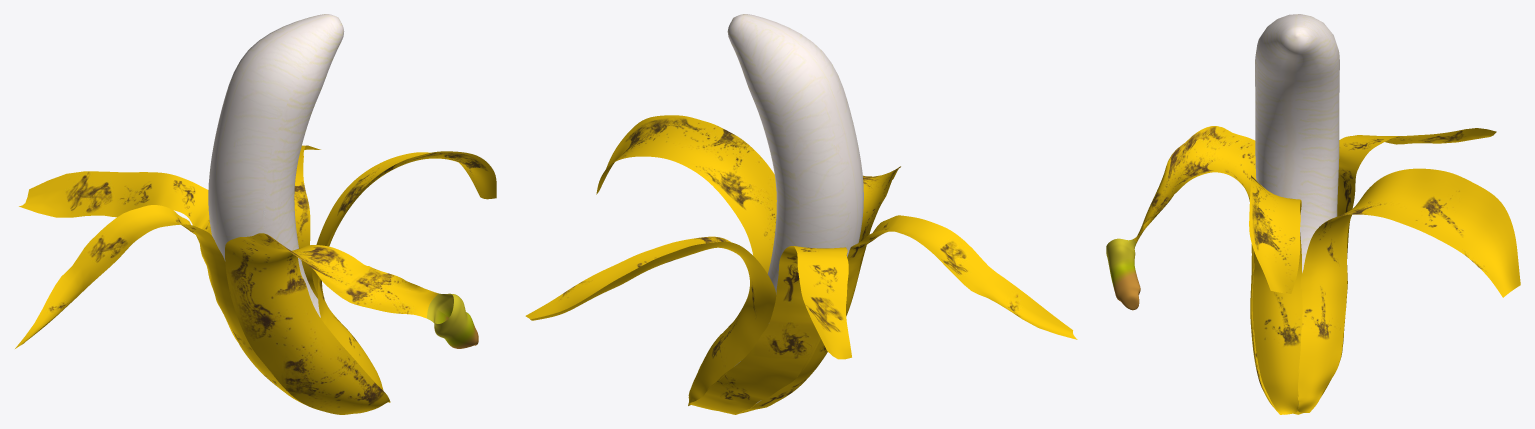
Rendered from banana_model.obj.
3 views of the same model, side by side, from view 1: azimuth 30°, elevation 25°; view 2: azimuth 150°, elevation 25°; view 3: azimuth 270°, elevation 25° (orthographic). The views are drawn at different scales.
Parts seen in each view (by area): view 1: bananu1:pPlane2 bananu1:polySurface1 group2 pasted__polySurface5, bananu1:pPlane1 pasted__polySurface6 bananu1:polySurface1 group2, polySurface9, polySurface8, bananu:pPlane1 polySurface7 bananu:polySurface1, bananu:pPlane1 bananu:polySurface1 polySurface3, bananu1:pPlane1 bananu1:polySurface1 group2 pasted__polySurface5, bananu1:pPlane2 pasted__polySurface6 bananu1:polySurface1 group2; view 2: bananu1:pPlane1 pasted__polySurface6 bananu1:polySurface1 group2, polySurface8, bananu:pPlane1 polySurface7 bananu:polySurface1, bananu:pPlane1 bananu:polySurface1 polySurface3, polySurface9, bananu1:pPlane2 pasted__polySurface6 bananu1:polySurface1 group2, bananu1:pPlane2 bananu1:polySurface1 group2 pasted__polySurface5; view 3: bananu:pPlane1 bananu:polySurface1 polySurface3, bananu1:pPlane1 pasted__polySurface6 bananu1:polySurface1 group2, bananu:pPlane1 polySurface7 bananu:polySurface1, bananu1:pPlane2 bananu1:polySurface1 group2 pasted__polySurface5, polySurface8, bananu1:pPlane2 pasted__polySurface6 bananu1:polySurface1 group2, bananu1:pPlane1 bananu1:polySurface1 group2 pasted__polySurface5, bananu1:polySurface7 pasted__polySurface6 bananu1:polySurface1 g.
Part boxes in pixels (x1,y1,x2,y2): bananu1:pPlane2 bananu1:polySurface1 group2 pasted__polySurface5: (225, 233, 461, 414); bananu1:pPlane1 pasted__polySurface6 bananu1:polySurface1 group2: (208, 15, 343, 299); polySurface9: (15, 205, 308, 406); polySurface8: (19, 171, 237, 341); bananu:pPlane1 polySurface7 bananu:polySurface1: (312, 151, 496, 390); bananu:pPlane1 bananu:polySurface1 polySurface3: (294, 145, 349, 331); bananu1:pPlane1 bananu1:polySurface1 group2 pasted__polySurface5: (434, 298, 478, 348); bananu1:pPlane2 pasted__polySurface6 bananu1:polySurface1 group2: (209, 221, 320, 317); bananu1:pPlane1 pasted__polySurface6 bananu1:polySurface1 group2: (728, 15, 863, 239); polySurface8: (690, 246, 851, 414); bananu:pPlane1 polySurface7 bananu:polySurface1: (596, 115, 776, 370); bananu:pPlane1 bananu:polySurface1 polySurface3: (525, 236, 776, 405); polySurface9: (733, 215, 1077, 414); bananu1:pPlane2 pasted__polySurface6 bananu1:polySurface1 group2: (734, 219, 862, 403); bananu1:pPlane2 bananu1:polySurface1 group2 pasted__polySurface5: (754, 166, 900, 405); bananu:pPlane1 bananu:polySurface1 polySurface3: (1297, 168, 1520, 412); bananu1:pPlane1 pasted__polySurface6 bananu1:polySurface1 group2: (1255, 14, 1339, 272); bananu:pPlane1 polySurface7 bananu:polySurface1: (1249, 175, 1302, 414); bananu1:pPlane2 bananu1:polySurface1 group2 pasted__polySurface5: (1106, 126, 1282, 414); polySurface8: (1293, 128, 1496, 414); bananu1:pPlane2 pasted__polySurface6 bananu1:polySurface1 group2: (1279, 163, 1338, 264); bananu1:pPlane1 bananu1:polySurface1 group2 pasted__polySurface5: (1107, 246, 1140, 310); bananu1:polySurface7 pasted__polySurface6 bananu1:polySurface1 g: (1281, 24, 1312, 52).
Size of the model in its own units: 29.24 by 23.46 by 23.8.
6 materials, 6 textured.
